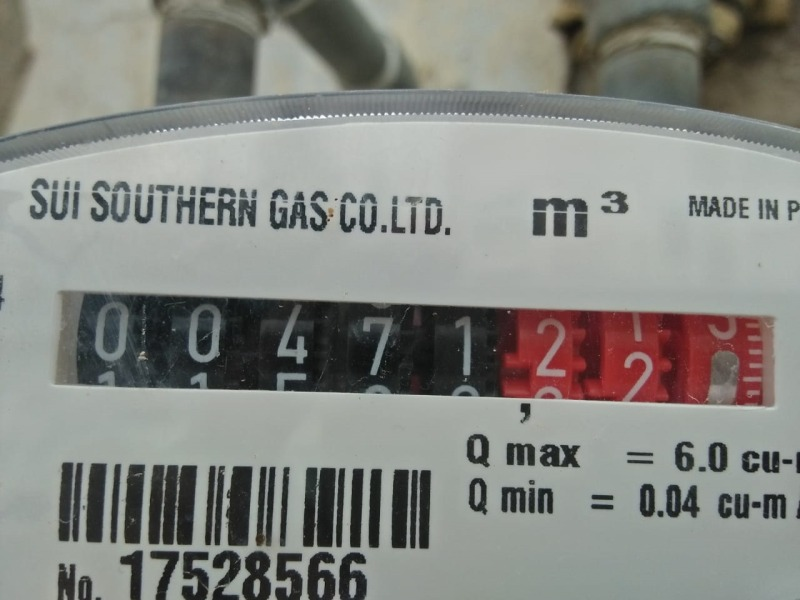ssgc: (48, 286, 781, 411)
